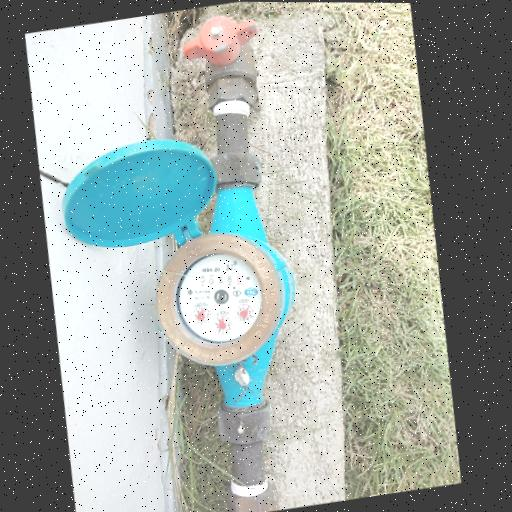0: (206, 273, 215, 286), (198, 274, 207, 286)
5: (215, 273, 224, 285)
6: (232, 272, 243, 285)
8: (224, 273, 233, 286)
border_water_meter_number: (196, 268, 243, 291)
